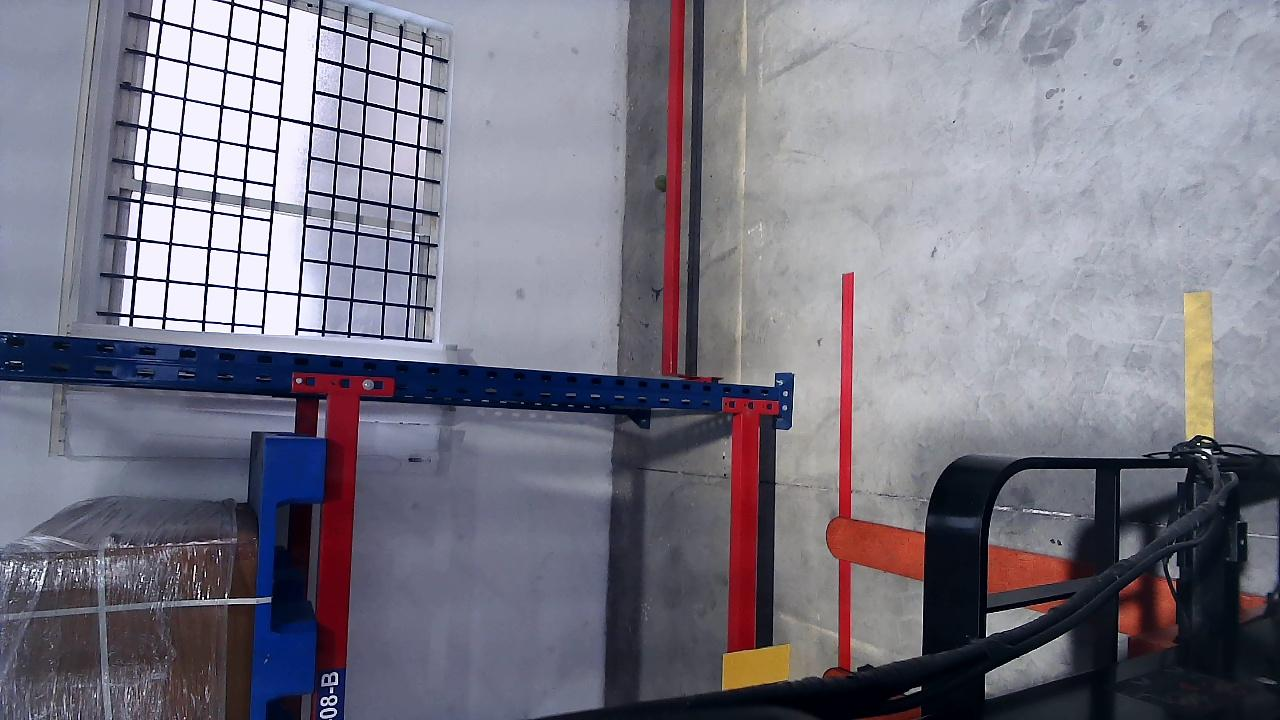h_rack: (322, 395, 345, 719), (732, 413, 759, 689)
orange_strip: (721, 644, 792, 685)
red_line: (837, 270, 855, 677)
small_pallet: (256, 439, 322, 718)
yellow_line: (1183, 291, 1215, 439)
